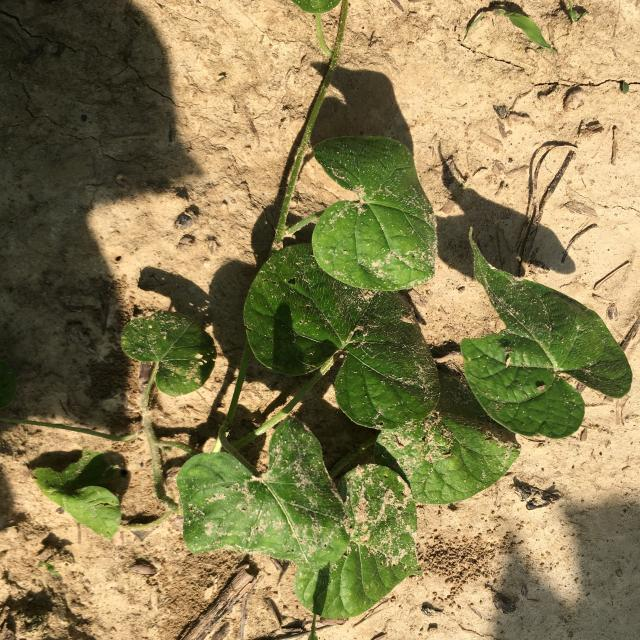MorningGlory: (1, 1, 634, 620)
